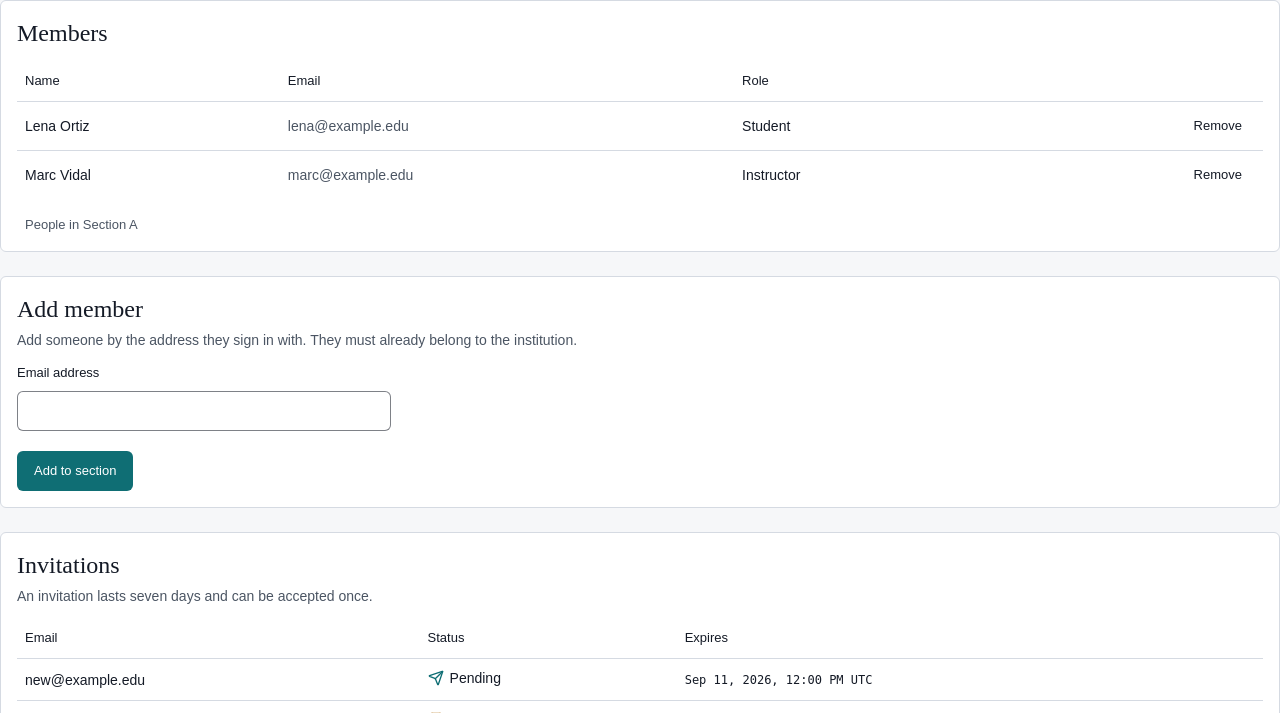
Test case: SectionRoster removal (UI-031, SYS-005) › asks before unseating anyone, and names the person it is about
This screenshot has width=1280, height=713.
Click the button "Remove" in the row of "Lena Ortiz" at (1218, 126), box [1181,110,1255,142]
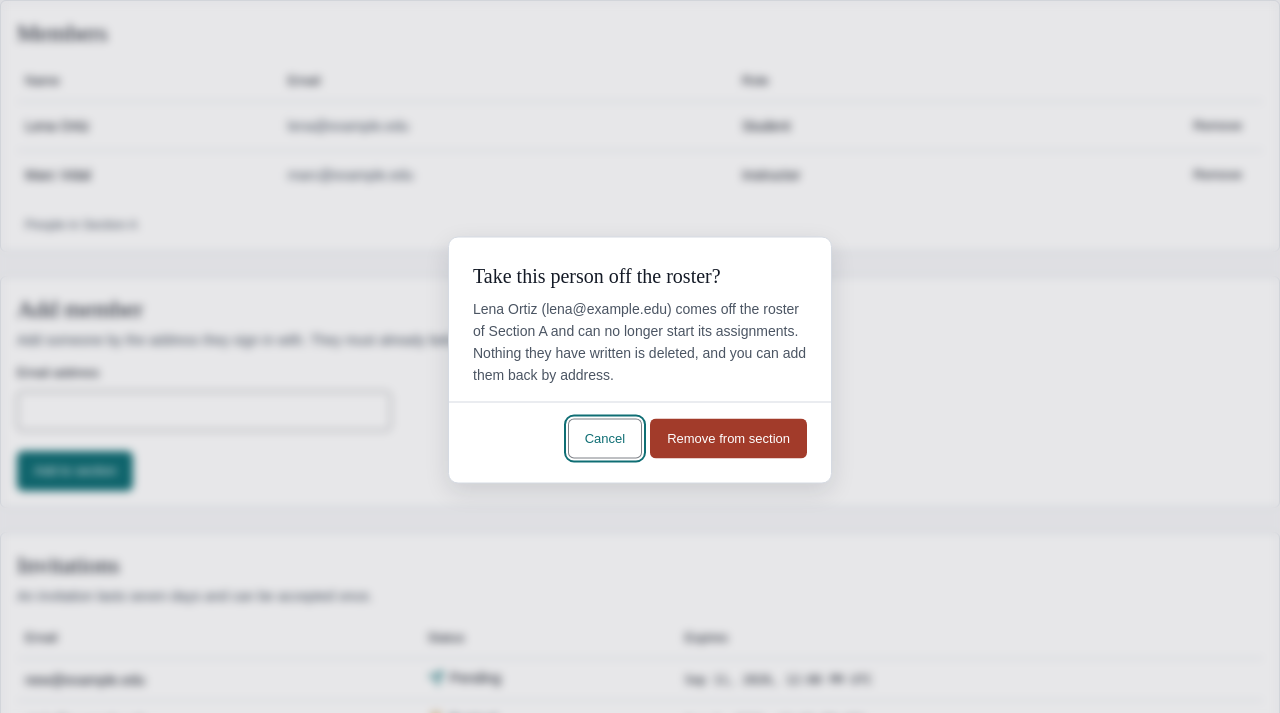
Check: the dialog "Take this person off the roster?" shows "Lena Ortiz", box [473,300,806,382]
Check: the dialog "Take this person off the roster?" shows "lena@example.edu", box [473,300,806,382]
Check: the dialog "Take this person off the roster?" shows "Section A", box [473,300,806,382]
